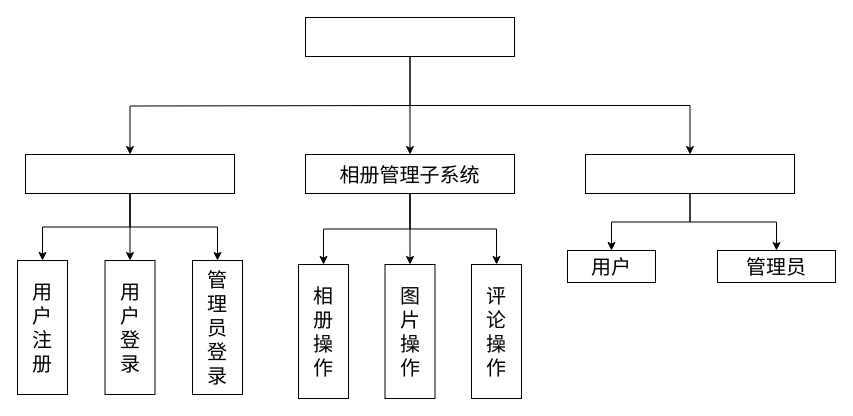
Image size: 853x416. Some labels were removed from this diagram. The shapes that lost their labels are listed below. From the top down, each one's centre as x and y in pixels, then its label:
At point (409, 36): "电子相册系统".
At point (129, 174): "注册登录子系统".
At point (689, 174): "用户管理子系统".
